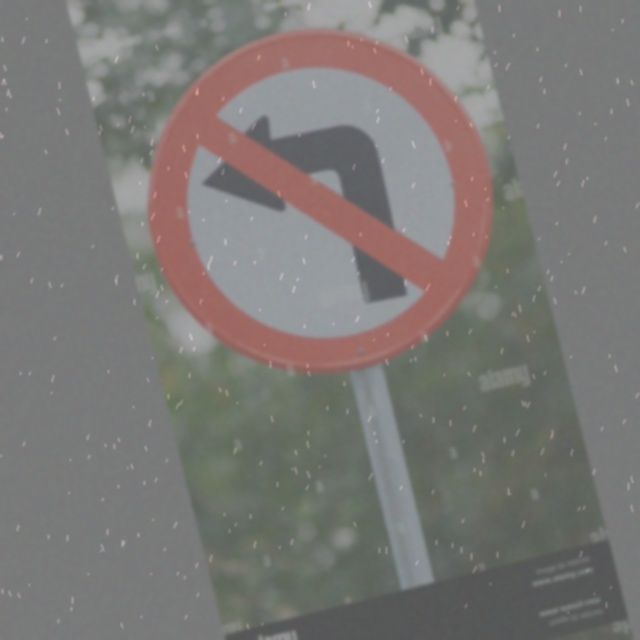Left_Turn_Prohibited: (110, 1, 529, 407)
